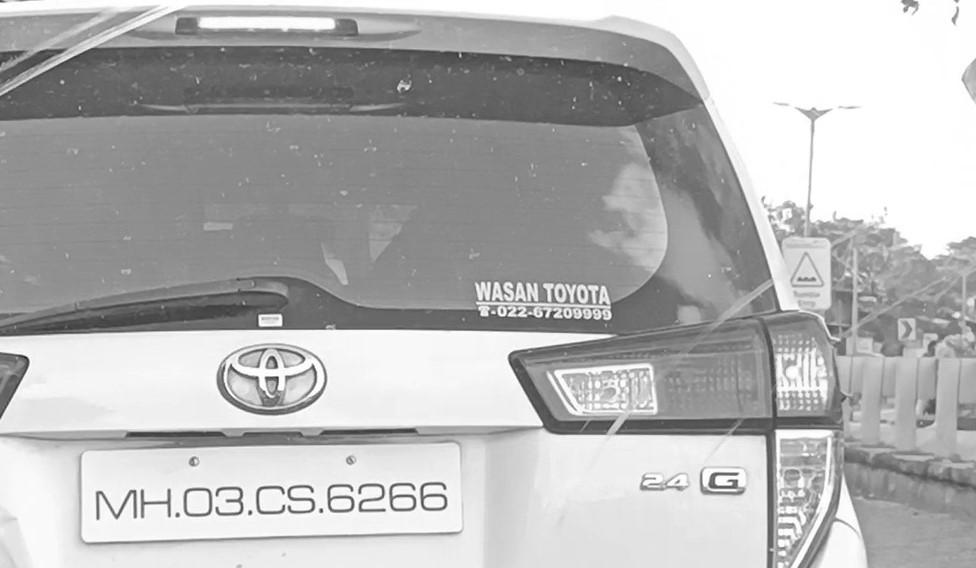number_plate: (80, 452, 464, 533)
